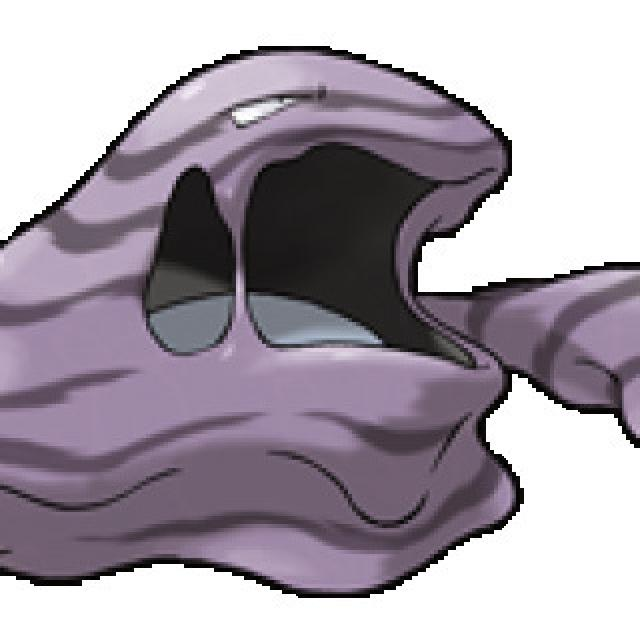Muk: (34, 44, 510, 509)
